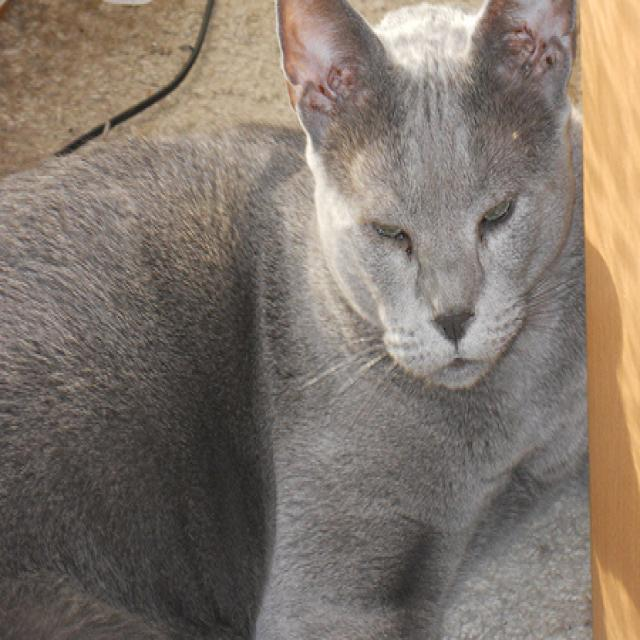Russian Blue: (0, 0, 600, 640)
